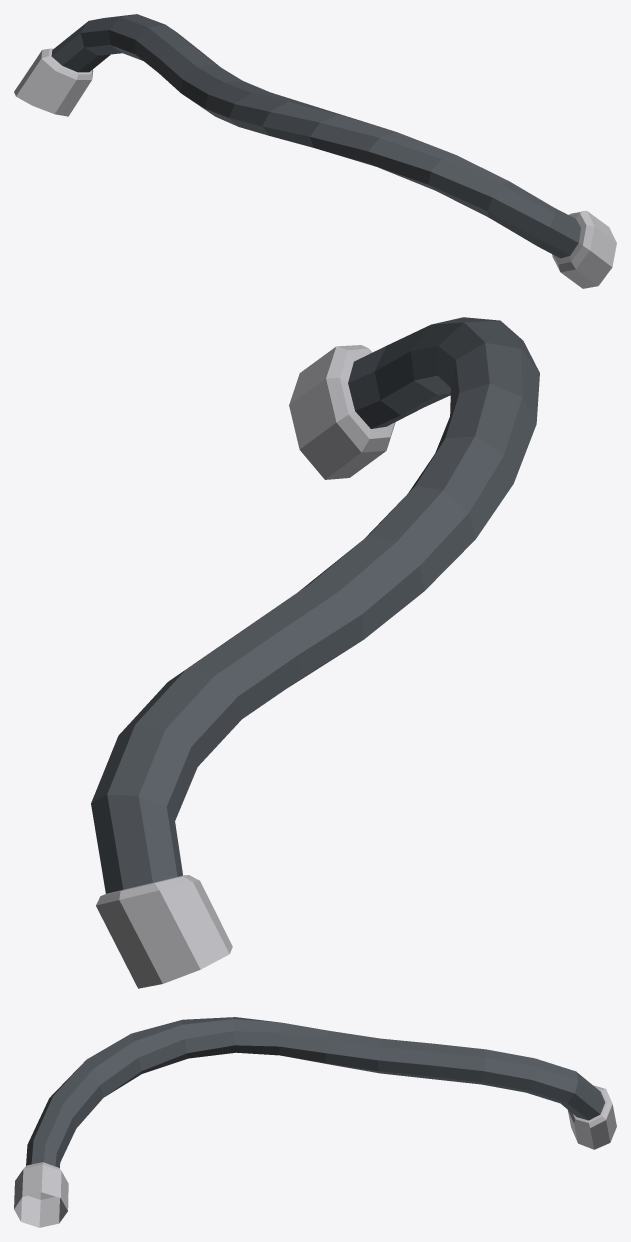
Rendered from Personal_Vehicle_04_Connecting_Tubes_2.fbx.
The picture shows the model from 3 angles, top to bottom: view 1: azimuth 30°, elevation 25°; view 2: azimuth 150°, elevation 25°; view 3: azimuth 270°, elevation 25°; orthographic projection. The views are drawn at different scales.
Visible parts, largest first — view 1: Personal_Vehicle_04_Connecting_Tubes_2; view 2: Personal_Vehicle_04_Connecting_Tubes_2; view 3: Personal_Vehicle_04_Connecting_Tubes_2.
Part boxes in pixels (x1,y1,x2,y2): Personal_Vehicle_04_Connecting_Tubes_2: (14,14,616,288); Personal_Vehicle_04_Connecting_Tubes_2: (91,317,539,988); Personal_Vehicle_04_Connecting_Tubes_2: (14,1017,616,1227).
Size of the model in its own units: 34 by 18.93 by 73.61.
1 material, 1 textured.
